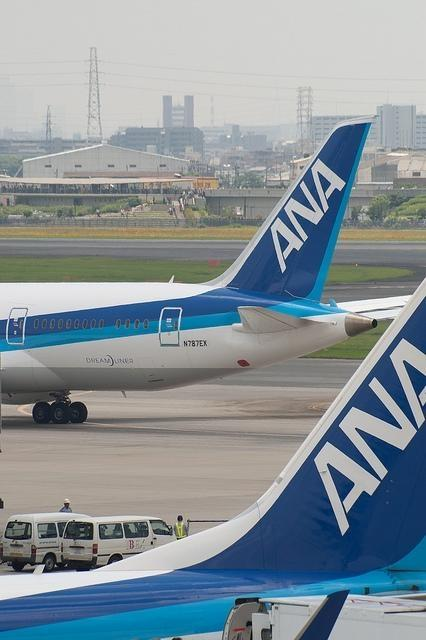truck: (62, 513, 178, 572), (2, 512, 93, 572)
